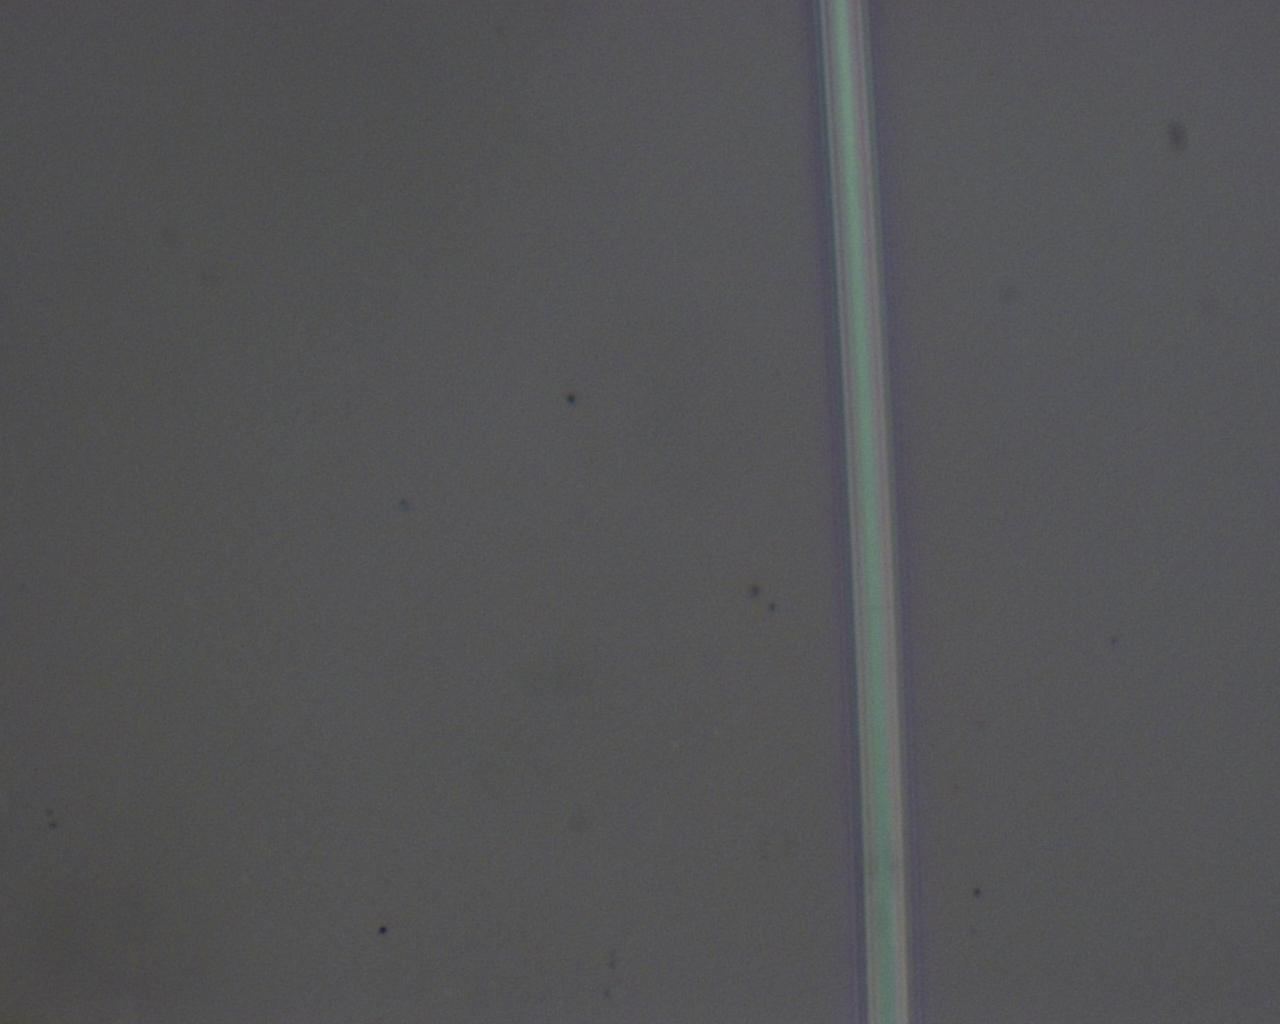fiber: (400, 0, 920, 1024)
